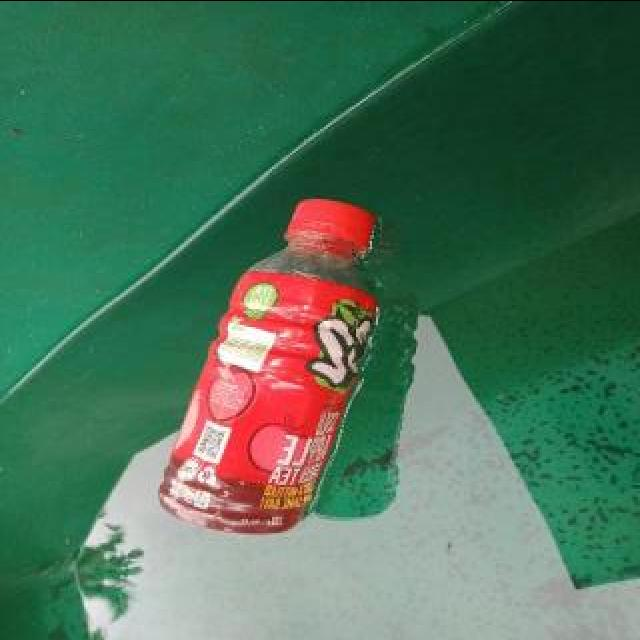Bottle: (152, 189, 388, 542)
